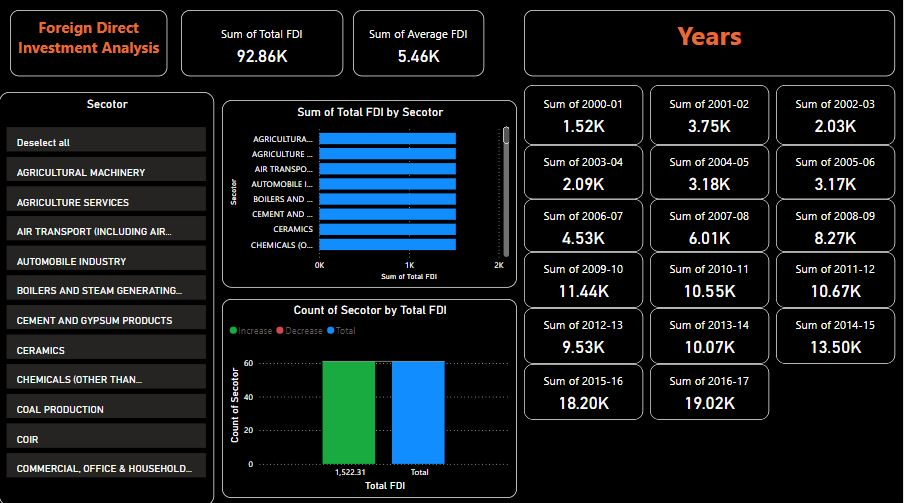

Layout of this report page (visuals, bound fields, positions):
{"tool":"powerbi","page":{"name":"Page 1","canvas":[1280,720],"ordinal":0},"visuals":[{"type":"textbox","box":[15.6,17,222.5,93.5],"z":0},{"type":"cardVisual","fields":{"Data":["Sum(FDI_OUTPUT.Total FDI)"]},"box":[258,17,229.6,93.5],"z":1000},{"type":"barChart","fields":{"Category":["FDI_OUTPUT.Secotor"],"Y":["Sum(FDI_OUTPUT.Total FDI)"]},"box":[316.1,144.6,418.1,266.5],"z":2000},{"type":"advancedSlicerVisual","fields":{"Values":["FDI_OUTPUT.Secotor"]},"box":[0,133.2,304.7,586.8],"z":3000},{"type":"waterfallChart","fields":{"Category":["FDI_OUTPUT.Total FDI"],"Y":["CountNonNull(FDI_OUTPUT.Secotor)"]},"box":[316.1,426.6,418.1,282],"z":4000},{"type":"cardVisual","title":"Top 10 Sectors by Total FDI (2000-01 to 2016-17)","fields":{"Data":["Sum(FDI_OUTPUT.Average FDI)"]},"box":[501.7,17,185.7,93.5],"z":5000},{"type":"cardVisual","fields":{"Data":["Sum(FDI_OUTPUT.2000-01)"]},"box":[744.1,123.3,168.7,85],"z":6000},{"type":"cardVisual","fields":{"Data":["Sum(FDI_OUTPUT.2001-02)"]},"box":[922.7,123.3,168.7,85],"z":7000},{"type":"cardVisual","fields":{"Data":["Sum(FDI_OUTPUT.2002-03)"]},"box":[1101.3,123.3,168.7,85],"z":8000},{"type":"cardVisual","fields":{"Data":["Sum(FDI_OUTPUT.2003-04)"]},"box":[744.1,208.3,168.7,76.5],"z":9000},{"type":"cardVisual","fields":{"Data":["Sum(FDI_OUTPUT.2004-05)"]},"box":[922.7,208.3,168.7,76.5],"z":10000},{"type":"cardVisual","fields":{"Data":["Sum(FDI_OUTPUT.2005-06)"]},"box":[1101.3,208.3,168.7,76.5],"z":11000},{"type":"cardVisual","fields":{"Data":["Sum(FDI_OUTPUT.2006-07)"]},"box":[744.1,284.9,168.7,75.1],"z":12000},{"type":"cardVisual","fields":{"Data":["Sum(FDI_OUTPUT.2007-08)"]},"box":[922.7,284.9,168.7,75.1],"z":13000},{"type":"cardVisual","fields":{"Data":["Sum(FDI_OUTPUT.2008-09)"]},"box":[1101.3,284.9,168.7,75.1],"z":14000},{"type":"cardVisual","fields":{"Data":["Sum(FDI_OUTPUT.2009-10)"]},"box":[744.1,360,168.7,79.4],"z":15000},{"type":"cardVisual","fields":{"Data":["Sum(FDI_OUTPUT.2010-11)"]},"box":[922.7,360,168.7,79.4],"z":16000},{"type":"cardVisual","fields":{"Data":["Sum(FDI_OUTPUT.2011-12)"]},"box":[1101.3,360,168.7,79.4],"z":17000},{"type":"cardVisual","fields":{"Data":["Sum(FDI_OUTPUT.2012-13)"]},"box":[744.1,439.4,168.7,79.4],"z":18000},{"type":"cardVisual","fields":{"Data":["Sum(FDI_OUTPUT.2013-14)"]},"box":[922.7,439.4,168.7,79.4],"z":19000},{"type":"textbox","box":[744.1,17,525.8,93.5],"z":20000},{"type":"cardVisual","fields":{"Data":["Sum(FDI_OUTPUT.2014-15)"]},"box":[1101.3,439.4,168.7,79.4],"z":21000},{"type":"cardVisual","fields":{"Data":["Sum(FDI_OUTPUT.2015-16)"]},"box":[744.1,518.7,168.7,79.4],"z":22000},{"type":"cardVisual","fields":{"Data":["Sum(FDI_OUTPUT.2016-17)"]},"box":[922.7,518.7,168.7,79.4],"z":23000}]}

Visuals, with their boxes in screenshot pixels (x1, y1, x2, y2), scaled from the page's 1280x720 canvas onto the 904x503 screenshot:
textbox: pyautogui.locateOnScreen(11, 12, 168, 77)
cardVisual - Sum(FDI_OUTPUT.Total FDI): pyautogui.locateOnScreen(182, 12, 344, 77)
barChart - FDI_OUTPUT.Secotor x Sum(FDI_OUTPUT.Total FDI): pyautogui.locateOnScreen(223, 101, 519, 287)
advancedSlicerVisual - FDI_OUTPUT.Secotor: pyautogui.locateOnScreen(0, 93, 215, 502)
waterfallChart - FDI_OUTPUT.Total FDI x CountNonNull(FDI_OUTPUT.Secotor): pyautogui.locateOnScreen(223, 298, 519, 495)
"Top 10 Sectors by Total FDI (2000-01 to 2016-17)" cardVisual: pyautogui.locateOnScreen(354, 12, 485, 77)
cardVisual - Sum(FDI_OUTPUT.2000-01): pyautogui.locateOnScreen(526, 86, 645, 146)
cardVisual - Sum(FDI_OUTPUT.2001-02): pyautogui.locateOnScreen(652, 86, 771, 146)
cardVisual - Sum(FDI_OUTPUT.2002-03): pyautogui.locateOnScreen(778, 86, 897, 146)
cardVisual - Sum(FDI_OUTPUT.2003-04): pyautogui.locateOnScreen(526, 146, 645, 199)
cardVisual - Sum(FDI_OUTPUT.2004-05): pyautogui.locateOnScreen(652, 146, 771, 199)
cardVisual - Sum(FDI_OUTPUT.2005-06): pyautogui.locateOnScreen(778, 146, 897, 199)
cardVisual - Sum(FDI_OUTPUT.2006-07): pyautogui.locateOnScreen(526, 199, 645, 252)
cardVisual - Sum(FDI_OUTPUT.2007-08): pyautogui.locateOnScreen(652, 199, 771, 252)
cardVisual - Sum(FDI_OUTPUT.2008-09): pyautogui.locateOnScreen(778, 199, 897, 252)
cardVisual - Sum(FDI_OUTPUT.2009-10): pyautogui.locateOnScreen(526, 252, 645, 307)
cardVisual - Sum(FDI_OUTPUT.2010-11): pyautogui.locateOnScreen(652, 252, 771, 307)
cardVisual - Sum(FDI_OUTPUT.2011-12): pyautogui.locateOnScreen(778, 252, 897, 307)
cardVisual - Sum(FDI_OUTPUT.2012-13): pyautogui.locateOnScreen(526, 307, 645, 362)
cardVisual - Sum(FDI_OUTPUT.2013-14): pyautogui.locateOnScreen(652, 307, 771, 362)
textbox: pyautogui.locateOnScreen(526, 12, 897, 77)
cardVisual - Sum(FDI_OUTPUT.2014-15): pyautogui.locateOnScreen(778, 307, 897, 362)
cardVisual - Sum(FDI_OUTPUT.2015-16): pyautogui.locateOnScreen(526, 362, 645, 418)
cardVisual - Sum(FDI_OUTPUT.2016-17): pyautogui.locateOnScreen(652, 362, 771, 418)
